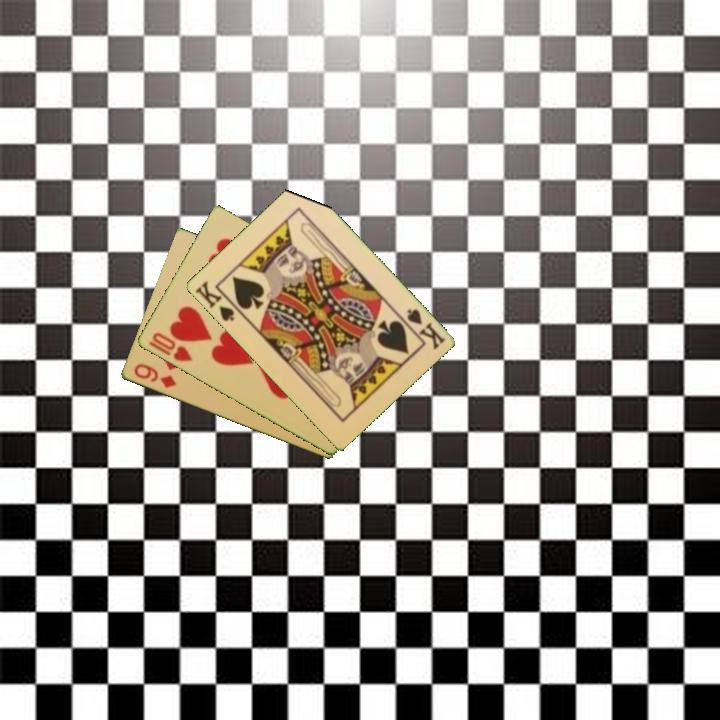10h: (148, 329, 195, 365)
9d: (130, 360, 179, 391)
Ks: (191, 277, 237, 324), (403, 305, 448, 353)
